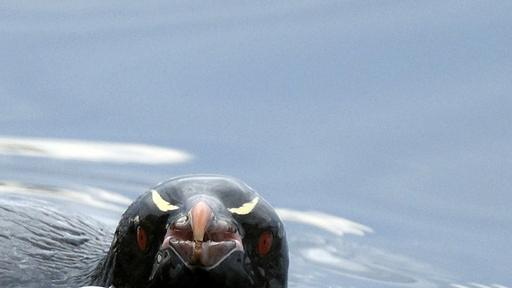Southern Rockhopper Penguin: (0, 121, 317, 288)
